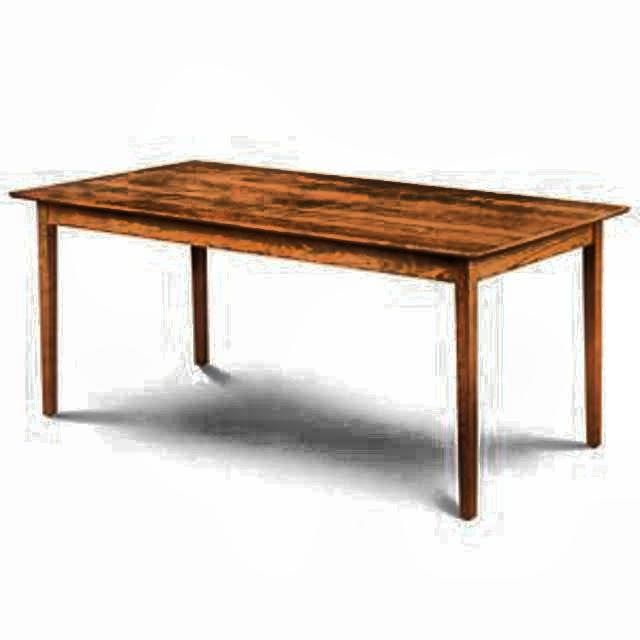mesa: (2, 131, 630, 532)
